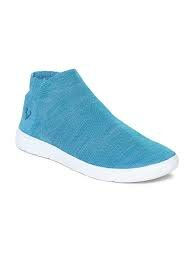Sneakers: (13, 64, 180, 188)
